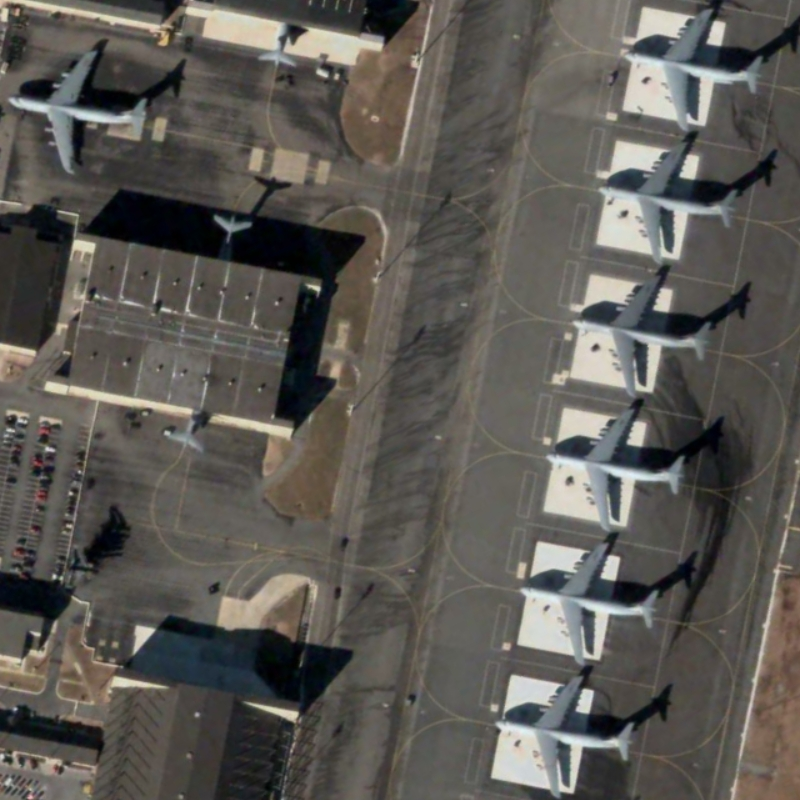A4: (509, 533, 664, 672), (538, 400, 694, 534), (6, 44, 157, 179), (486, 672, 645, 800), (565, 267, 718, 400), (592, 137, 741, 270), (618, 5, 769, 136)
